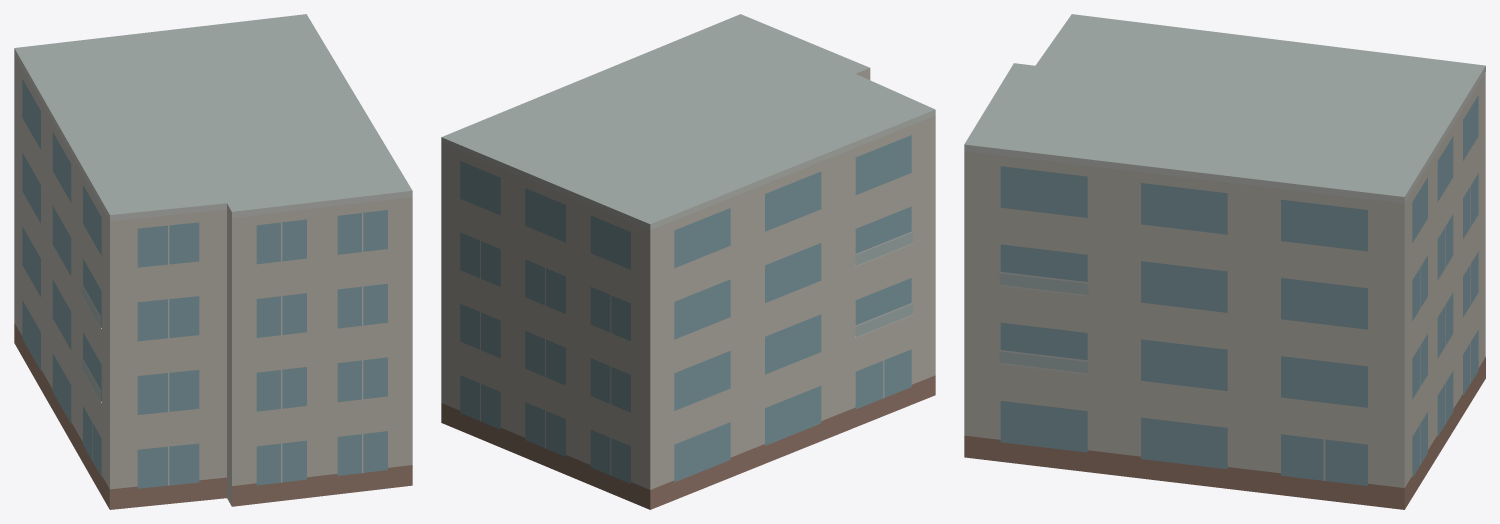
The model's file is survey-upis-32982647.glb.
3 views of the same model, side by side, from view 1: azimuth 30°, elevation 25°; view 2: azimuth 150°, elevation 25°; view 3: azimuth 270°, elevation 25° (orthographic). The views are drawn at different scales.
Visible parts, largest first — view 1: survey-upis-32982647.tmp; view 2: survey-upis-32982647.tmp; view 3: survey-upis-32982647.tmp.
Boxes of the visible parts, bbox=[...] form: survey-upis-32982647.tmp: bbox=[14, 14, 412, 509]; survey-upis-32982647.tmp: bbox=[441, 14, 935, 509]; survey-upis-32982647.tmp: bbox=[964, 14, 1485, 509].
Bounding box in the file's own units: 14.69 × 11.7 × 17.69.
